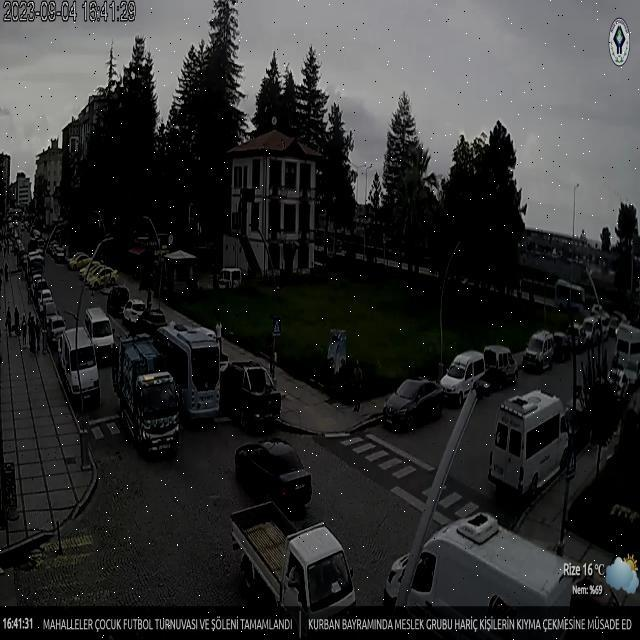Car: (232, 440, 316, 510), (220, 360, 281, 432), (382, 377, 444, 431), (481, 345, 519, 384), (522, 330, 555, 372), (471, 367, 515, 398), (136, 307, 168, 334), (577, 316, 603, 348), (607, 363, 629, 398), (106, 286, 130, 317), (44, 314, 67, 346), (122, 298, 146, 325), (551, 332, 571, 361), (566, 323, 585, 353), (36, 288, 55, 315), (68, 252, 91, 271), (598, 312, 614, 337), (608, 311, 626, 333), (32, 277, 50, 298)
Truck: (385, 512, 602, 638), (227, 501, 354, 622), (114, 346, 181, 456)
Van: (56, 327, 100, 408), (440, 350, 488, 404), (82, 308, 115, 364)
